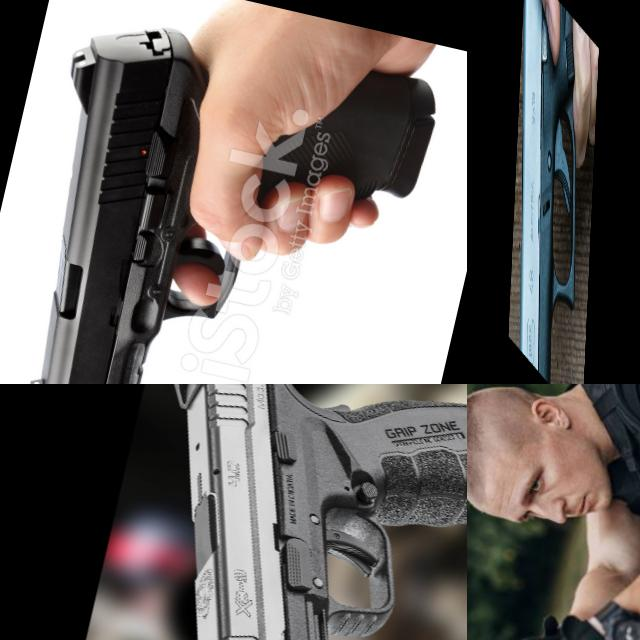handgun: (0, 0, 453, 384), (83, 384, 467, 640), (508, 0, 599, 384)
